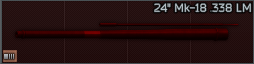Mk-18 .338 LM 24 inch barrel: (0, 0, 254, 64)
